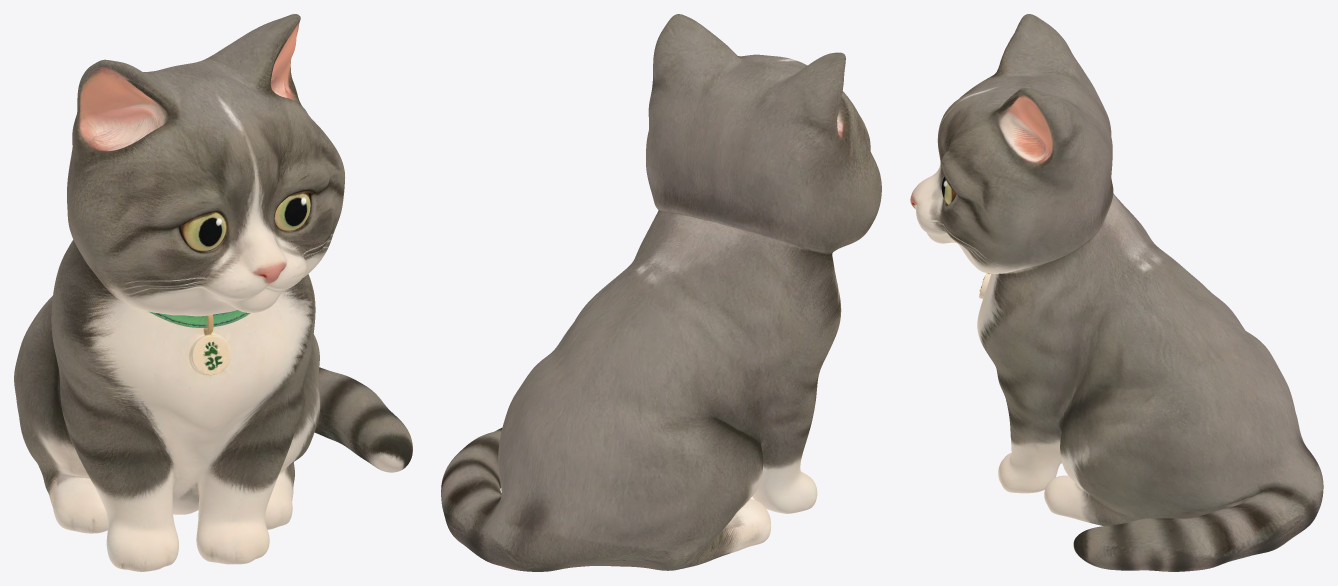
Rendered from cat.glb.
3 views of the same model, side by side, from view 1: azimuth 30°, elevation 25°; view 2: azimuth 150°, elevation 25°; view 3: azimuth 270°, elevation 25° (orthographic). The views are drawn at different scales.
Size of the model in its own units: 1.49 by 1.9 by 1.69.
1 material, 1 textured.
